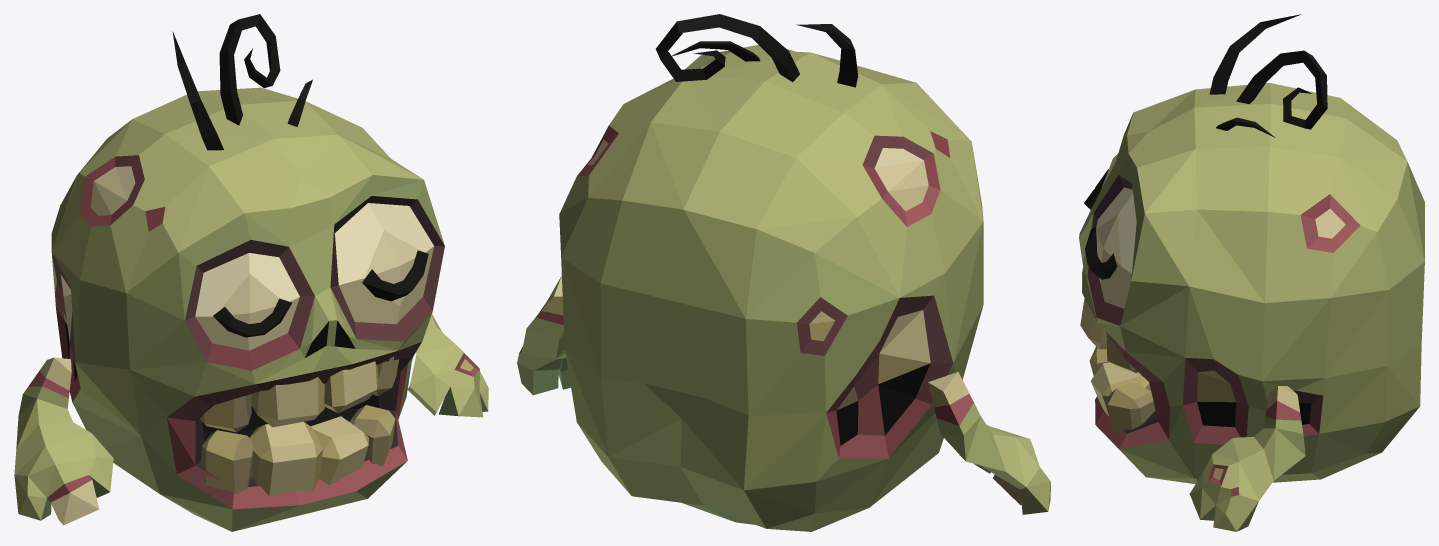
File: micro_zombie_brian_sleeping.obj
The picture shows the model from 3 angles, left to right: view 1: azimuth 30°, elevation 25°; view 2: azimuth 150°, elevation 25°; view 3: azimuth 270°, elevation 25°; orthographic projection. The views are drawn at different scales.
Visible parts, largest first — view 1: brian_mesh_sleeping; view 2: brian_mesh_sleeping; view 3: brian_mesh_sleeping.
Boxes of the visible parts, x1,y1,x2,y2 form: brian_mesh_sleeping: [14, 14, 488, 531]; brian_mesh_sleeping: [517, 14, 1050, 531]; brian_mesh_sleeping: [1079, 14, 1424, 531].
Bounding box in the file's own units: 153 × 142 × 104.
